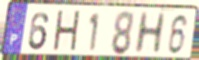1: (88, 11, 100, 53)
6: (28, 11, 50, 52), (168, 13, 188, 55)
8: (111, 10, 135, 57)
H: (132, 11, 168, 56), (51, 9, 82, 55)
